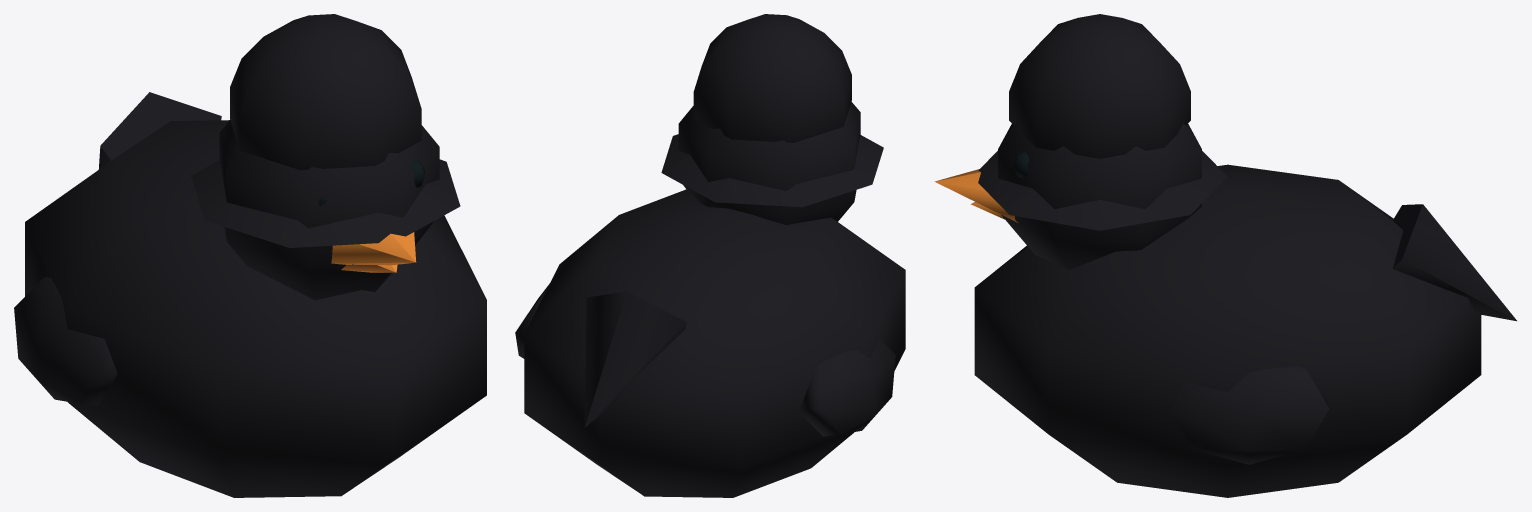
The model's file is duck-vader.glb.
3 renders of one model, left to right at view 1: azimuth 30°, elevation 25°; view 2: azimuth 150°, elevation 25°; view 3: azimuth 270°, elevation 25°, orthographic. The views are drawn at different scales.
Parts seen in each view (by area): view 1: CouncilDuck_vader; view 2: CouncilDuck_vader; view 3: CouncilDuck_vader.
Boxes of the visible parts, x1=… form: CouncilDuck_vader: x1=14, y1=14, x2=486, y2=497; CouncilDuck_vader: x1=515, y1=14, x2=905, y2=497; CouncilDuck_vader: x1=934, y1=14, x2=1516, y2=497.
Size of the model in its own units: 2.46 by 2.8 by 3.29.
